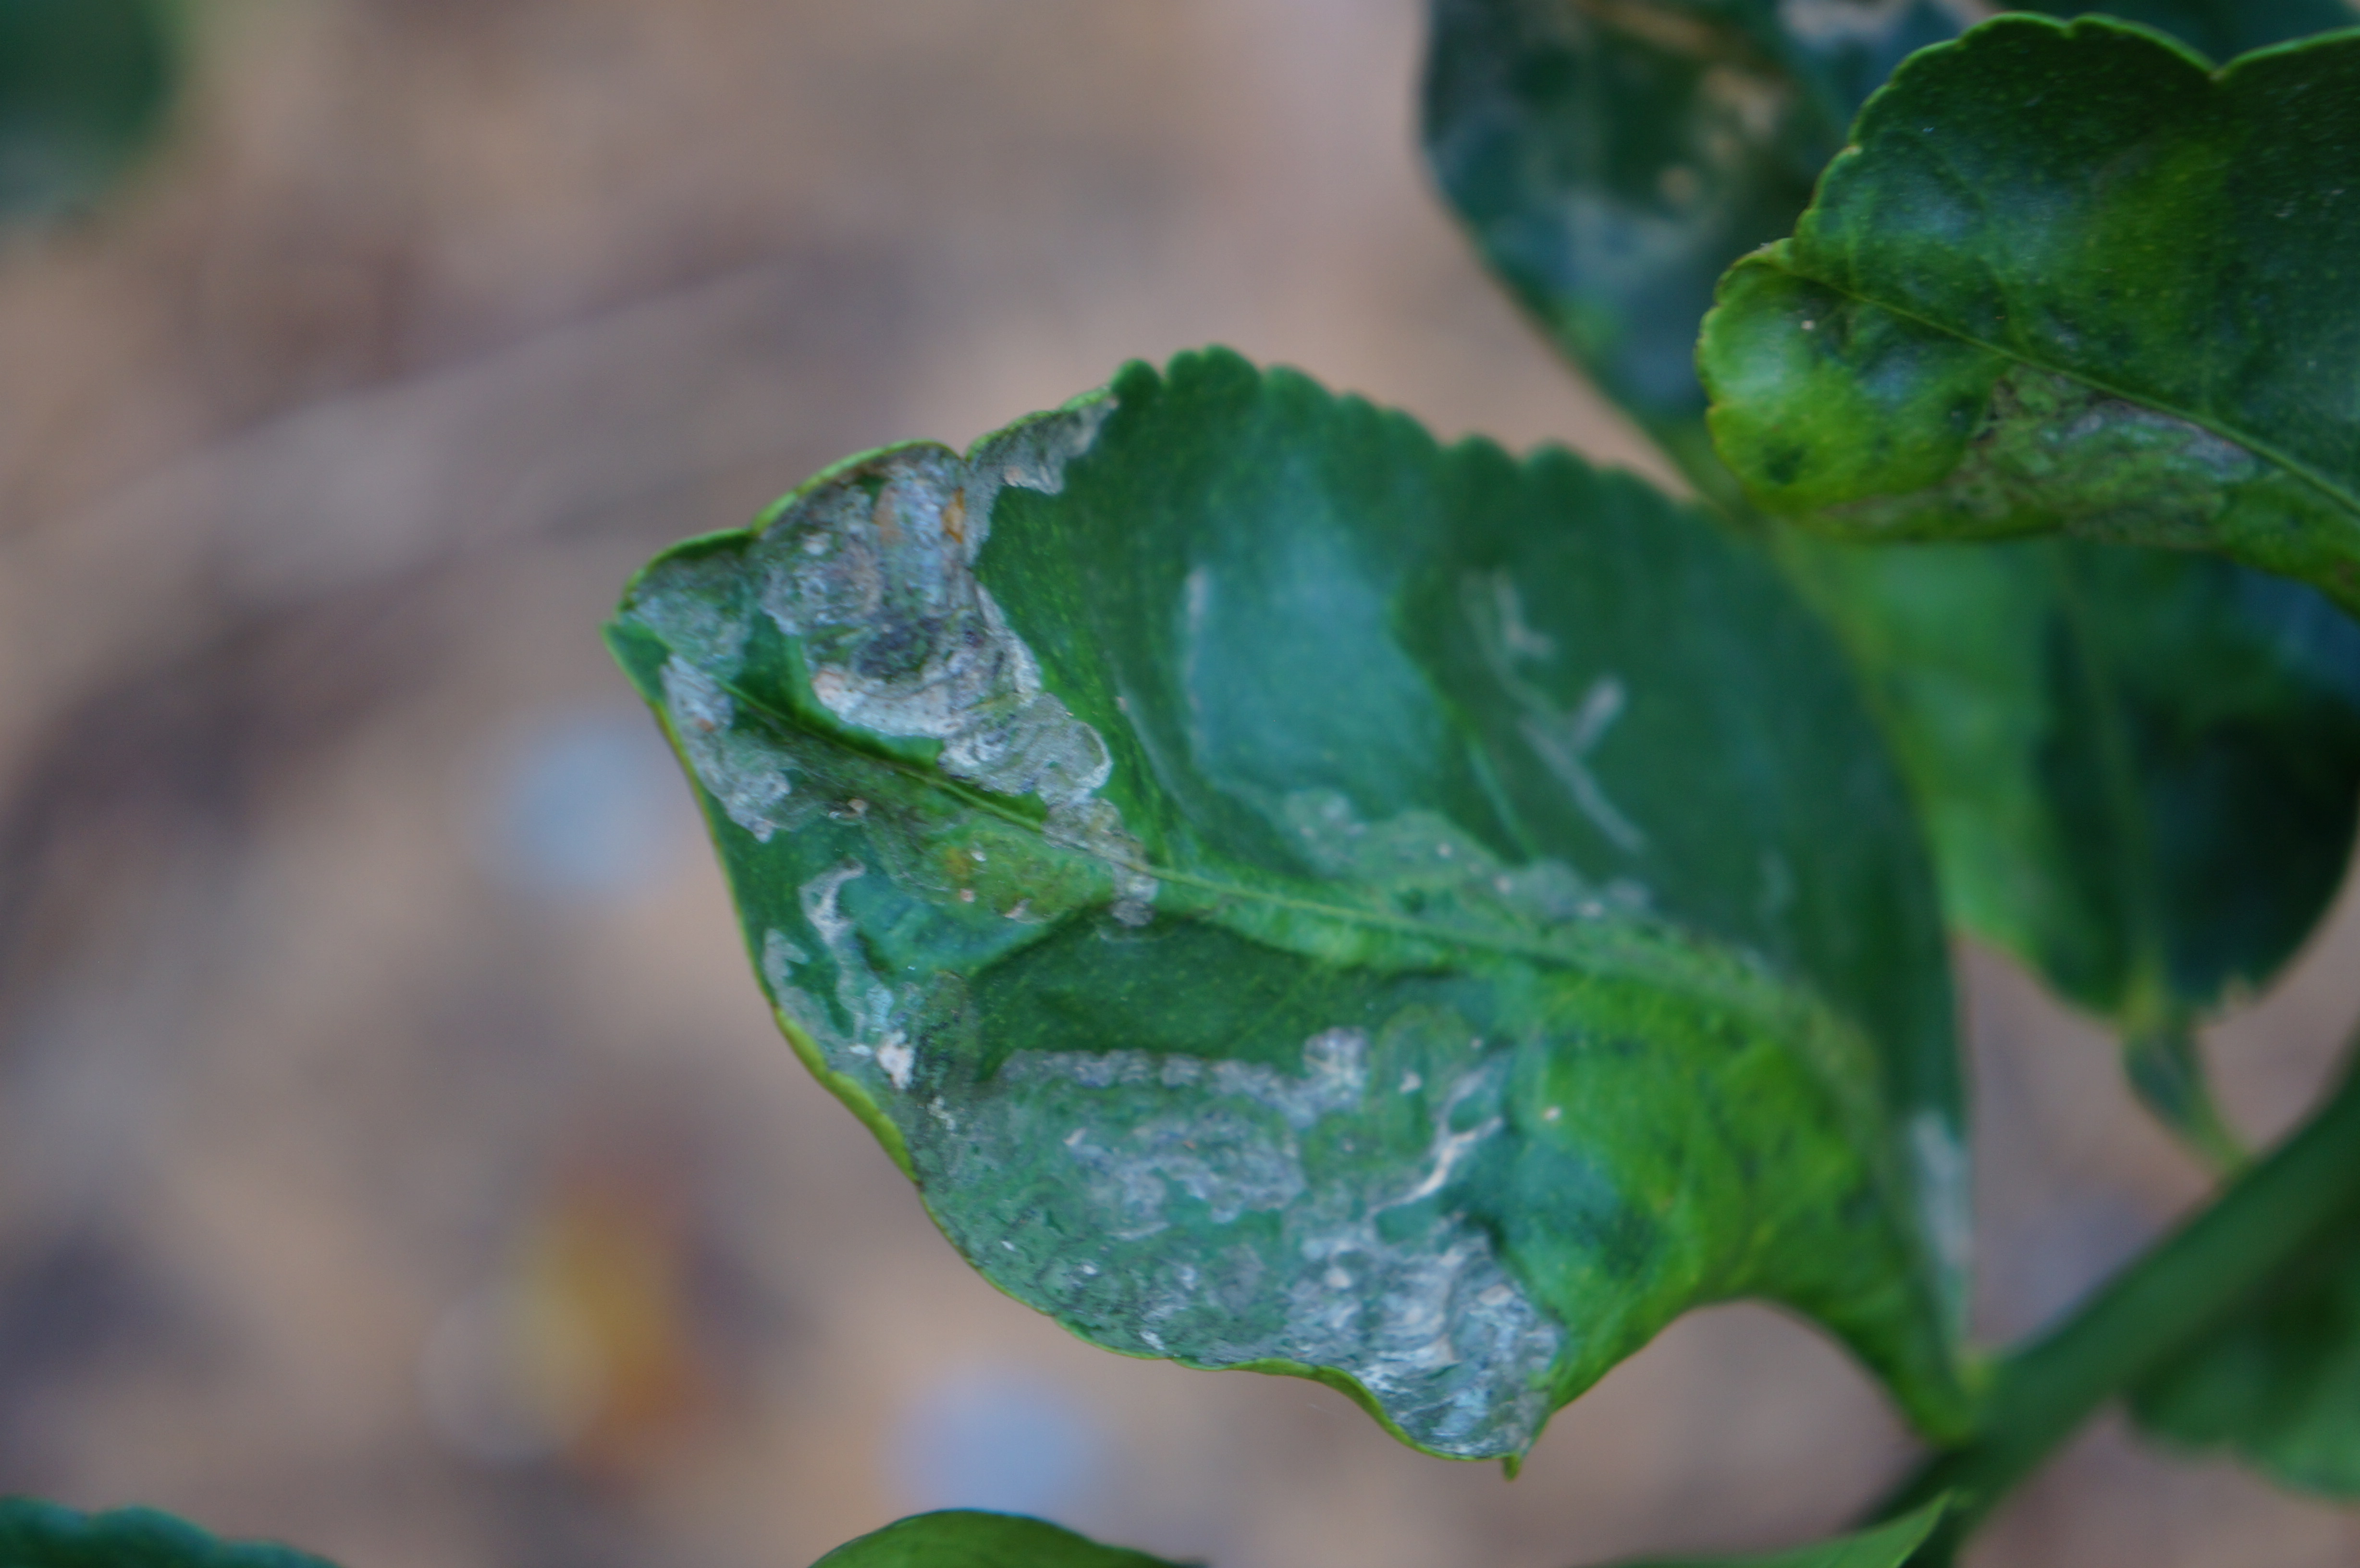damage: (593, 325, 1653, 1487)
